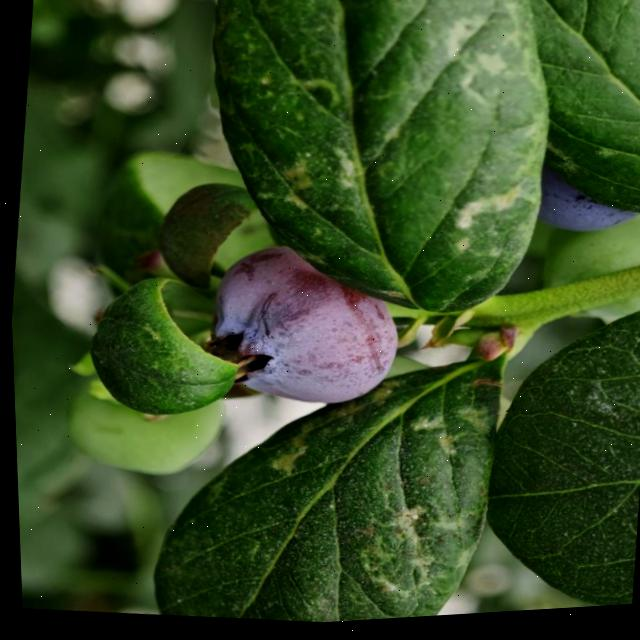Semi-RipeBlueBerry: (204, 241, 400, 418)
